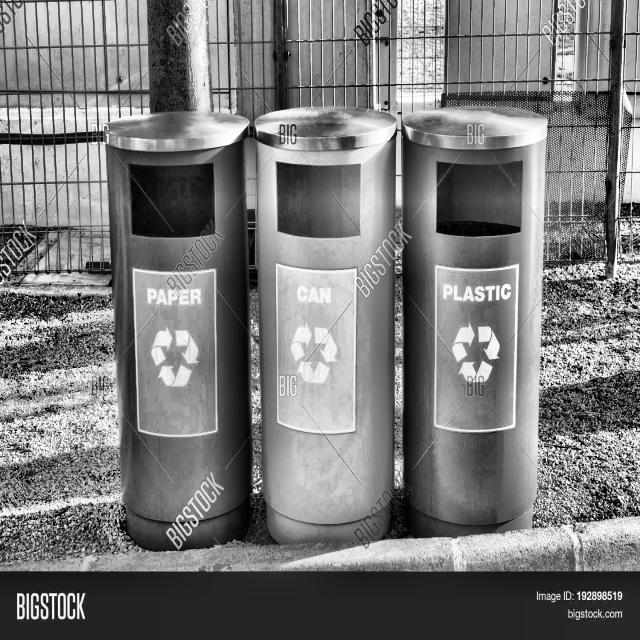wastebin: (103, 98, 585, 549)
